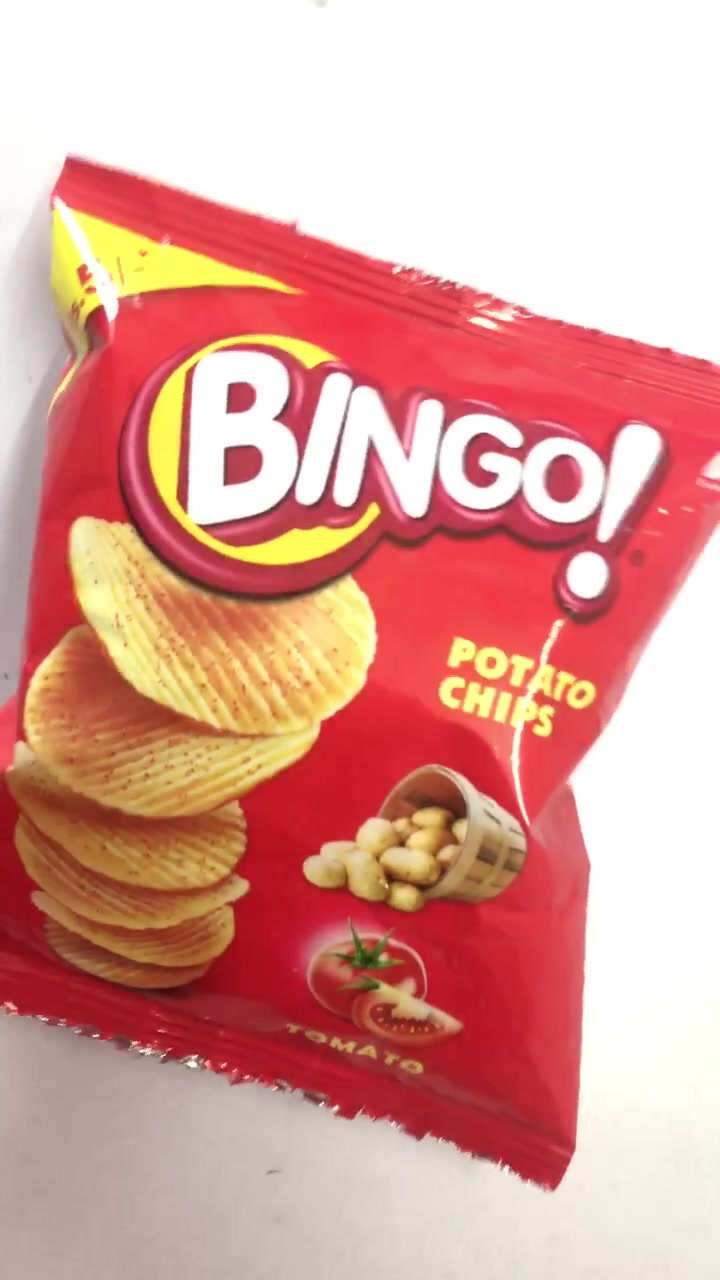Bingo: (8, 156, 720, 1167)
